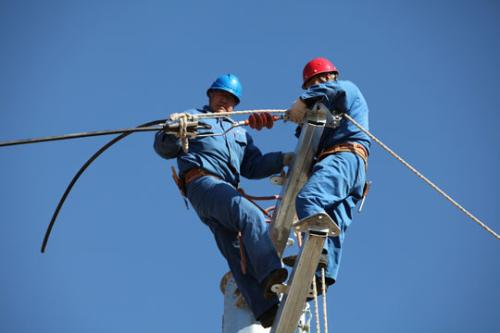helmet: (203, 70, 248, 119), (300, 55, 341, 91)
